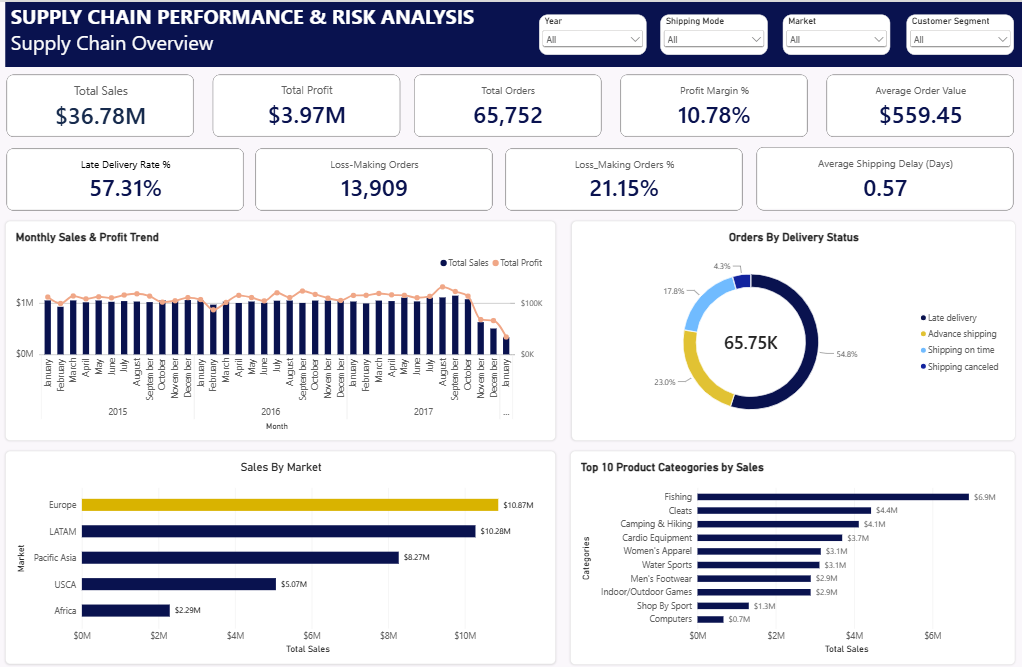

What the dashboard file says about the page in this screenshot:
{"tool":"powerbi","page":{"name":"Supply Chain Overview","canvas":[1920,1080],"ordinal":0},"visuals":[{"type":"textbox","box":[10.8,0,1908.8,103.9],"z":0},{"type":"cardVisual","fields":{"Data":["supply_chain.Total Sales"]},"box":[11.1,115,300,100],"z":1000},{"type":"cardVisual","fields":{"Data":["supply_chain.Total Profit"]},"box":[342.6,115,300,100],"z":2000},{"type":"cardVisual","fields":{"Data":["supply_chain.Total Orders"]},"box":[664.8,115,300,100],"z":3000},{"type":"cardVisual","fields":{"Data":["supply_chain.Profit Margin %"]},"box":[994.4,115,300,100],"z":4000},{"type":"cardVisual","fields":{"Data":["supply_chain.Average Order Value"]},"box":[1324.1,115,300,100],"z":5000},{"type":"cardVisual","fields":{"Data":["supply_chain.Late Delivery Rate %"]},"box":[11.1,233.3,380,100],"z":6000},{"type":"cardVisual","fields":{"Data":["supply_chain.Loss-Making Orders"]},"box":[410,233.3,380,100],"z":7000},{"type":"cardVisual","fields":{"Data":["supply_chain.Loss_Making Orders %"]},"box":[809.3,233.3,380,100],"z":8000},{"type":"cardVisual","fields":{"Data":["supply_chain.Average Shipping Delay (Days)"]},"box":[1212,232.3,411.1,101.4],"z":9000},{"type":"lineClusteredColumnComboChart","title":"Monthly Sales & Profit Trend","fields":{"Category":["supply_chain.order_date_dateorders.Variation.Date Hierarchy.Year","supply_chain.order_date_dateorders.Variation.Date Hierarchy.Month"],"Y":["supply_chain.Total Sales"],"Y2":["supply_chain.Total Profit"]},"box":[10.7,349.7,881,352.4],"z":10000},{"type":"slicer","fields":{"Values":["supply_chain.Order Year"]},"box":[864.4,19.5,172.3,64.6],"z":11000},{"type":"donutChart","title":"Orders By Delivery Status","fields":{"Category":["supply_chain.delivery_status"],"Y":["supply_chain.Total Orders"]},"box":[915.7,349.7,710.1,352.4],"z":12000},{"type":"clusteredBarChart","title":"Sales By Market","fields":{"Category":["supply_chain.market"],"Y":["supply_chain.Total Sales"]},"box":[10.7,718.1,881,341.7],"z":13000},{"type":"clusteredBarChart","title":"Top 10 Product Cateogories by Sales","fields":{"Category":["supply_chain.category_name"],"Y":["supply_chain.Total Sales"]},"box":[914,718,712,342],"z":14000},{"type":"slicer","fields":{"Values":["supply_chain.shipping_mode"]},"box":[1058.6,19.5,172.3,64.6],"z":15000},{"type":"slicer","fields":{"Values":["supply_chain.market"]},"box":[1254,19.5,172.3,64.6],"z":16000},{"type":"slicer","fields":{"Values":["supply_chain.customer_segment"]},"box":[1451.7,19.5,172.3,64.6],"z":17000}]}

Visuals, with their boxes on the page's 1920x1080 design canvas (x1, y1, x2, y2). These are canvas units, not pixel positions in the 1022x667 screenshot, which may show the page scaled, cropped or inside an application window:
textbox: bbox=[11, 0, 1920, 104]
cardVisual - supply_chain.Total Sales: bbox=[11, 115, 311, 215]
cardVisual - supply_chain.Total Profit: bbox=[343, 115, 643, 215]
cardVisual - supply_chain.Total Orders: bbox=[665, 115, 965, 215]
cardVisual - supply_chain.Profit Margin %: bbox=[994, 115, 1294, 215]
cardVisual - supply_chain.Average Order Value: bbox=[1324, 115, 1624, 215]
cardVisual - supply_chain.Late Delivery Rate %: bbox=[11, 233, 391, 333]
cardVisual - supply_chain.Loss-Making Orders: bbox=[410, 233, 790, 333]
cardVisual - supply_chain.Loss_Making Orders %: bbox=[809, 233, 1189, 333]
cardVisual - supply_chain.Average Shipping Delay (Days): bbox=[1212, 232, 1623, 334]
"Monthly Sales & Profit Trend" lineClusteredColumnComboChart: bbox=[11, 350, 892, 702]
slicer - supply_chain.Order Year: bbox=[864, 20, 1037, 84]
"Orders By Delivery Status" donutChart: bbox=[916, 350, 1626, 702]
"Sales By Market" clusteredBarChart: bbox=[11, 718, 892, 1060]
"Top 10 Product Cateogories by Sales" clusteredBarChart: bbox=[914, 718, 1626, 1060]
slicer - supply_chain.shipping_mode: bbox=[1059, 20, 1231, 84]
slicer - supply_chain.market: bbox=[1254, 20, 1426, 84]
slicer - supply_chain.customer_segment: bbox=[1452, 20, 1624, 84]
